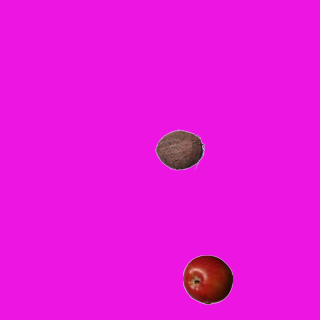Apple Braeburn: (182, 254, 232, 304)
Cocos: (154, 124, 204, 174)
